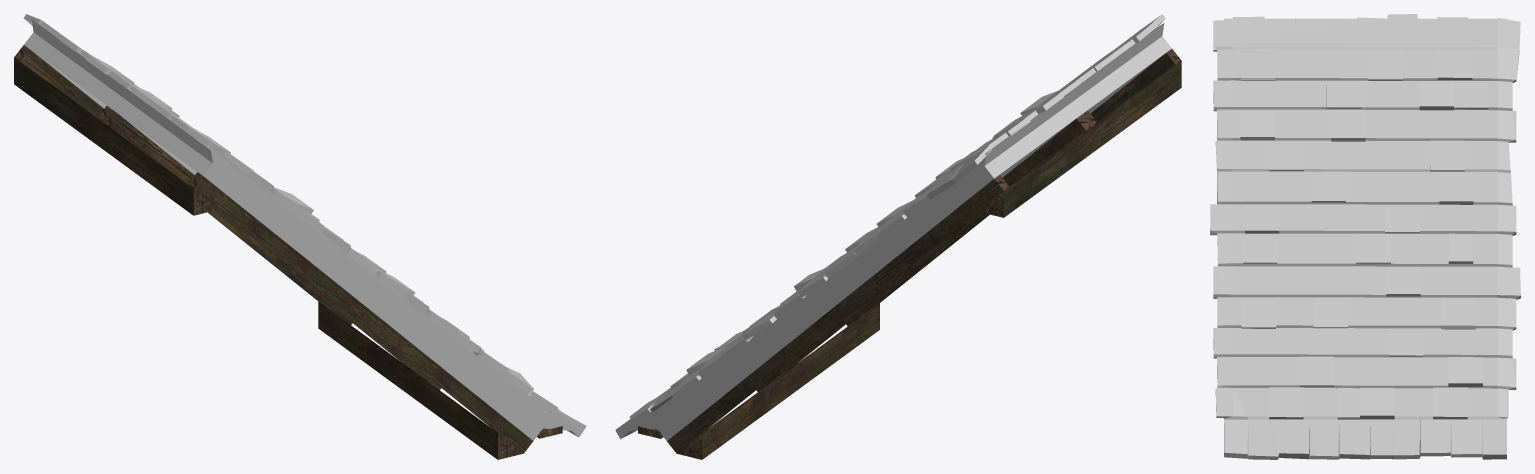
3 views of the same model, side by side, from view 1: azimuth 30°, elevation 25°; view 2: azimuth 150°, elevation 25°; view 3: azimuth 270°, elevation 25° (orthographic). The views are drawn at different scales.
Visible parts, largest first — view 1: SM_BB_T1_Roof_Large_Diagonal_LOD0; view 2: SM_BB_T1_Roof_Large_Diagonal_LOD0; view 3: SM_BB_T1_Roof_Large_Diagonal_LOD0.
Boxes of the visible parts, <box> form: SM_BB_T1_Roof_Large_Diagonal_LOD0: <box>14,14,586,459</box>; SM_BB_T1_Roof_Large_Diagonal_LOD0: <box>615,14,1181,459</box>; SM_BB_T1_Roof_Large_Diagonal_LOD0: <box>1210,14,1520,459</box>.
Bounding box in the file's own units: 3.85 × 3.56 × 3.3.
